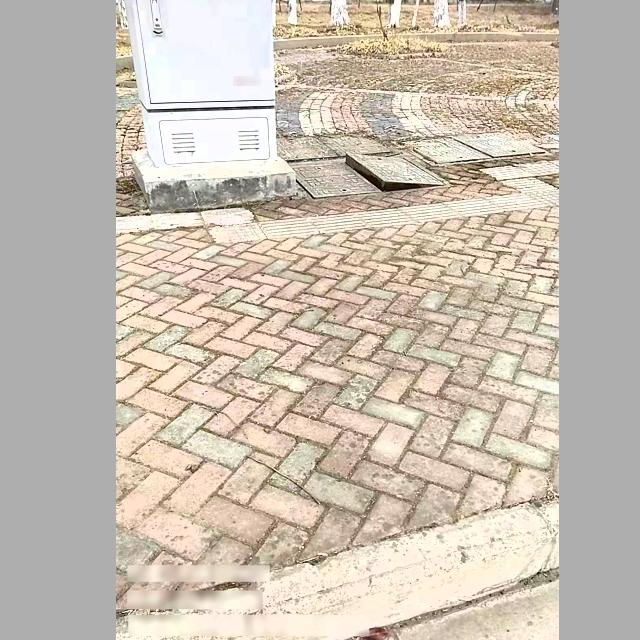good: (401, 131, 559, 171)
uncovered: (285, 151, 448, 198)
